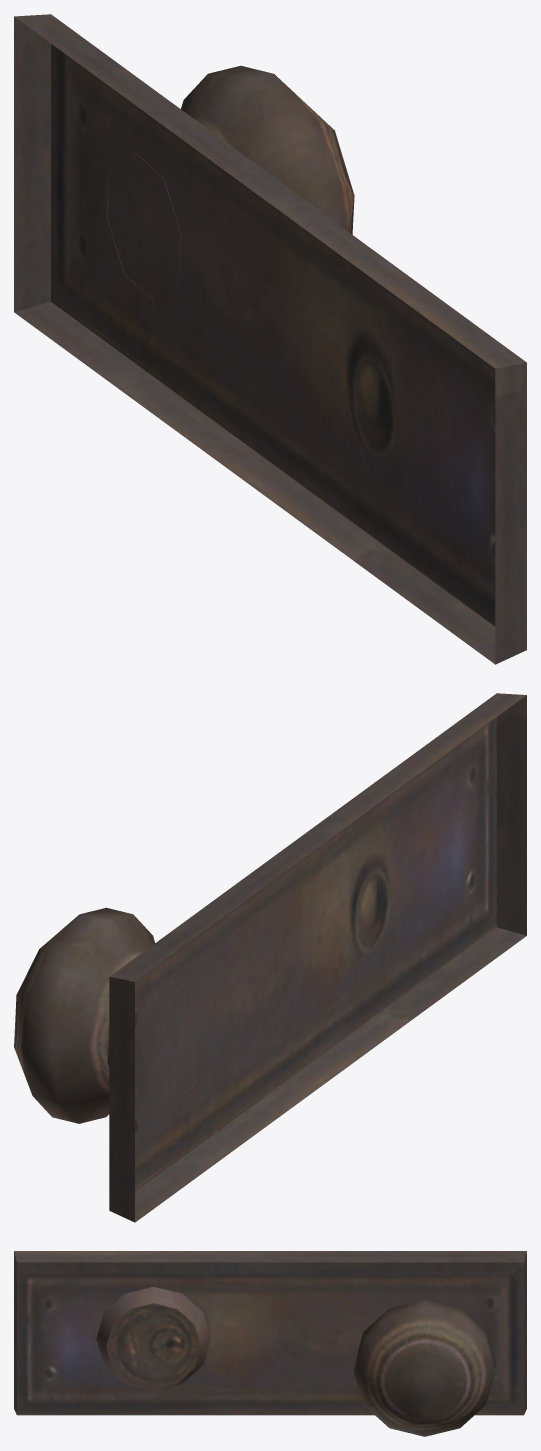
File: p_glo_doorknob1_LOD1.obj
3 views of the same model, one above another, from view 1: azimuth 30°, elevation 25°; view 2: azimuth 150°, elevation 25°; view 3: azimuth 270°, elevation 25° (orthographic). The views are drawn at different scales.
Parts seen in each view (by area): view 1: mtl_p_glo_doorknob; view 2: mtl_p_glo_doorknob; view 3: mtl_p_glo_doorknob.
Boxes of the visible parts, x1,y1,x2,y2 form: mtl_p_glo_doorknob: (14,14,526,664); mtl_p_glo_doorknob: (14,693,526,1222); mtl_p_glo_doorknob: (14,1251,526,1436).
Bounding box in the file's own units: 7.48 × 10.45 × 30.84.
